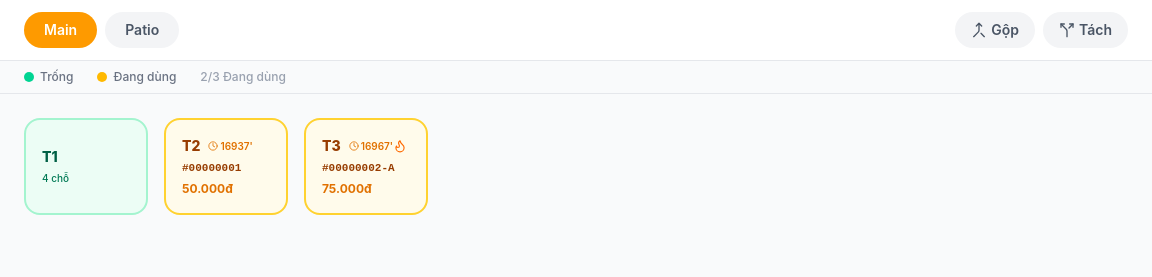
Scenario: OrderClient › TableGridView renders standalone and validates merge selection
Step 1. Click the button "Gộp" → (995, 30), box [955,12,1035,48]
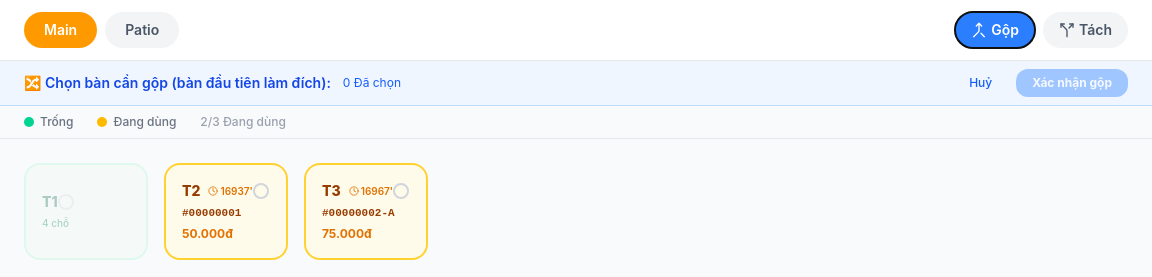
Now the text "🔀 Chọn bàn cần gộp (bàn đầu tiên làm đích):" is shown, box [24,73,331,93]
Step 2. Click the button "Huỷ" → (981, 83), box [957,71,1004,95]
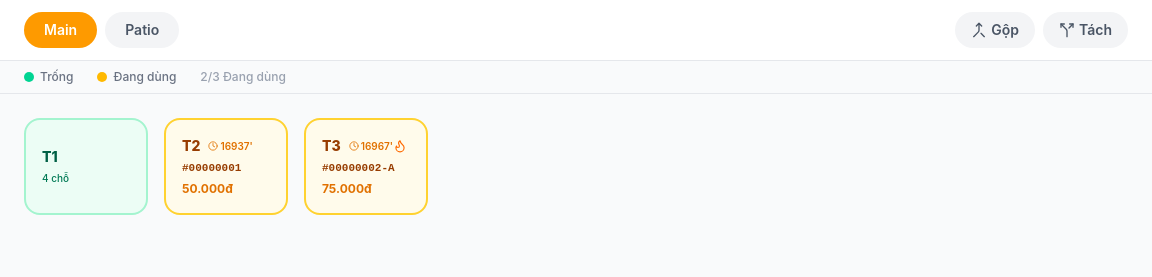
Now the text "🔀 Chọn bàn cần gộp (bàn đầu tiên làm đích):" is gone
